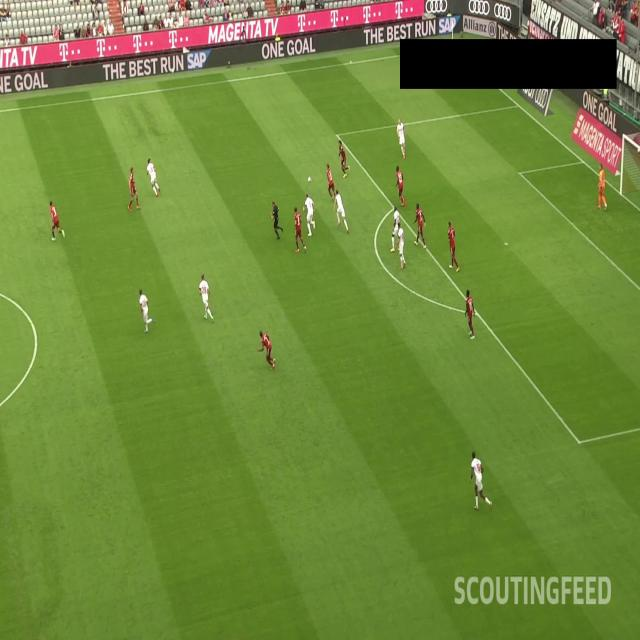ball: (307, 173, 313, 186)
player: (468, 448, 493, 515), (197, 268, 216, 325), (461, 287, 479, 341), (257, 326, 277, 372), (444, 218, 460, 274), (48, 197, 66, 246), (292, 202, 308, 255), (138, 287, 156, 334), (332, 188, 349, 236), (127, 164, 143, 214), (595, 159, 610, 211), (412, 200, 427, 250), (302, 192, 318, 238), (145, 156, 161, 199), (394, 161, 408, 209), (336, 136, 351, 180), (390, 203, 402, 252), (395, 217, 406, 269), (325, 161, 339, 201), (396, 117, 407, 160)
referee: (266, 198, 284, 242)
